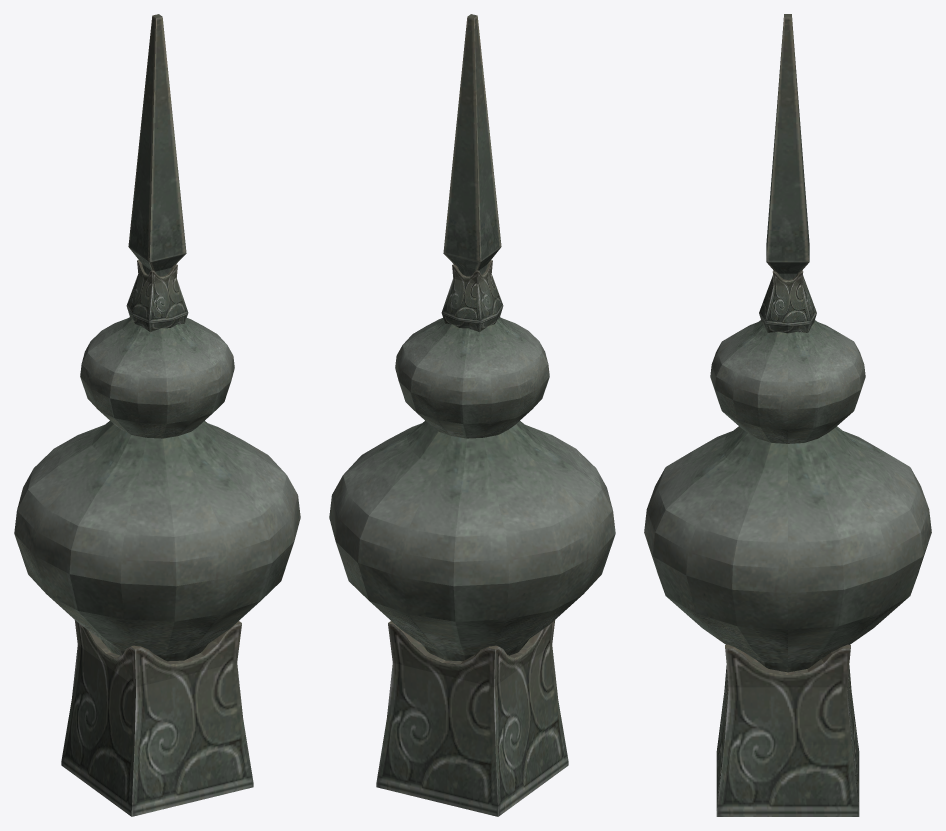
Rendered from bg_anh_mirrorv_octapavilion02_sm_cwk.FBX.
3 views of the same model, side by side, from view 1: azimuth 30°, elevation 25°; view 2: azimuth 150°, elevation 25°; view 3: azimuth 270°, elevation 25° (orthographic).
Visible parts, largest first — view 1: bg_anh_mirrorv_octapavilion02_sm_cwk; view 2: bg_anh_mirrorv_octapavilion02_sm_cwk; view 3: bg_anh_mirrorv_octapavilion02_sm_cwk.
Boxes of the visible parts, x1,y1,x2,y2 form: bg_anh_mirrorv_octapavilion02_sm_cwk: (14, 14, 300, 816); bg_anh_mirrorv_octapavilion02_sm_cwk: (329, 14, 615, 816); bg_anh_mirrorv_octapavilion02_sm_cwk: (644, 14, 931, 816).
Size of the model in its own units: 54.35 by 161 by 54.35.
